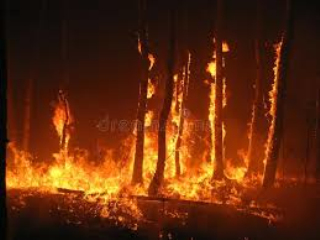fire: (133, 41, 283, 198), (4, 96, 135, 195)
